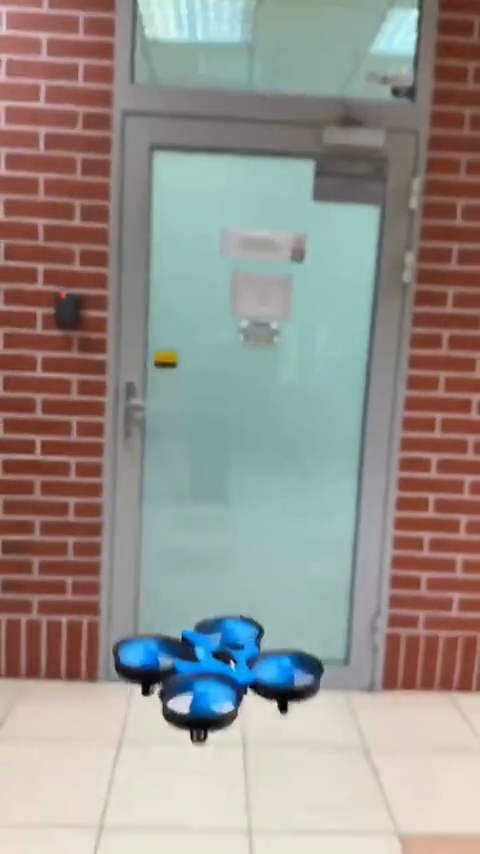drone: (116, 611, 325, 749)
